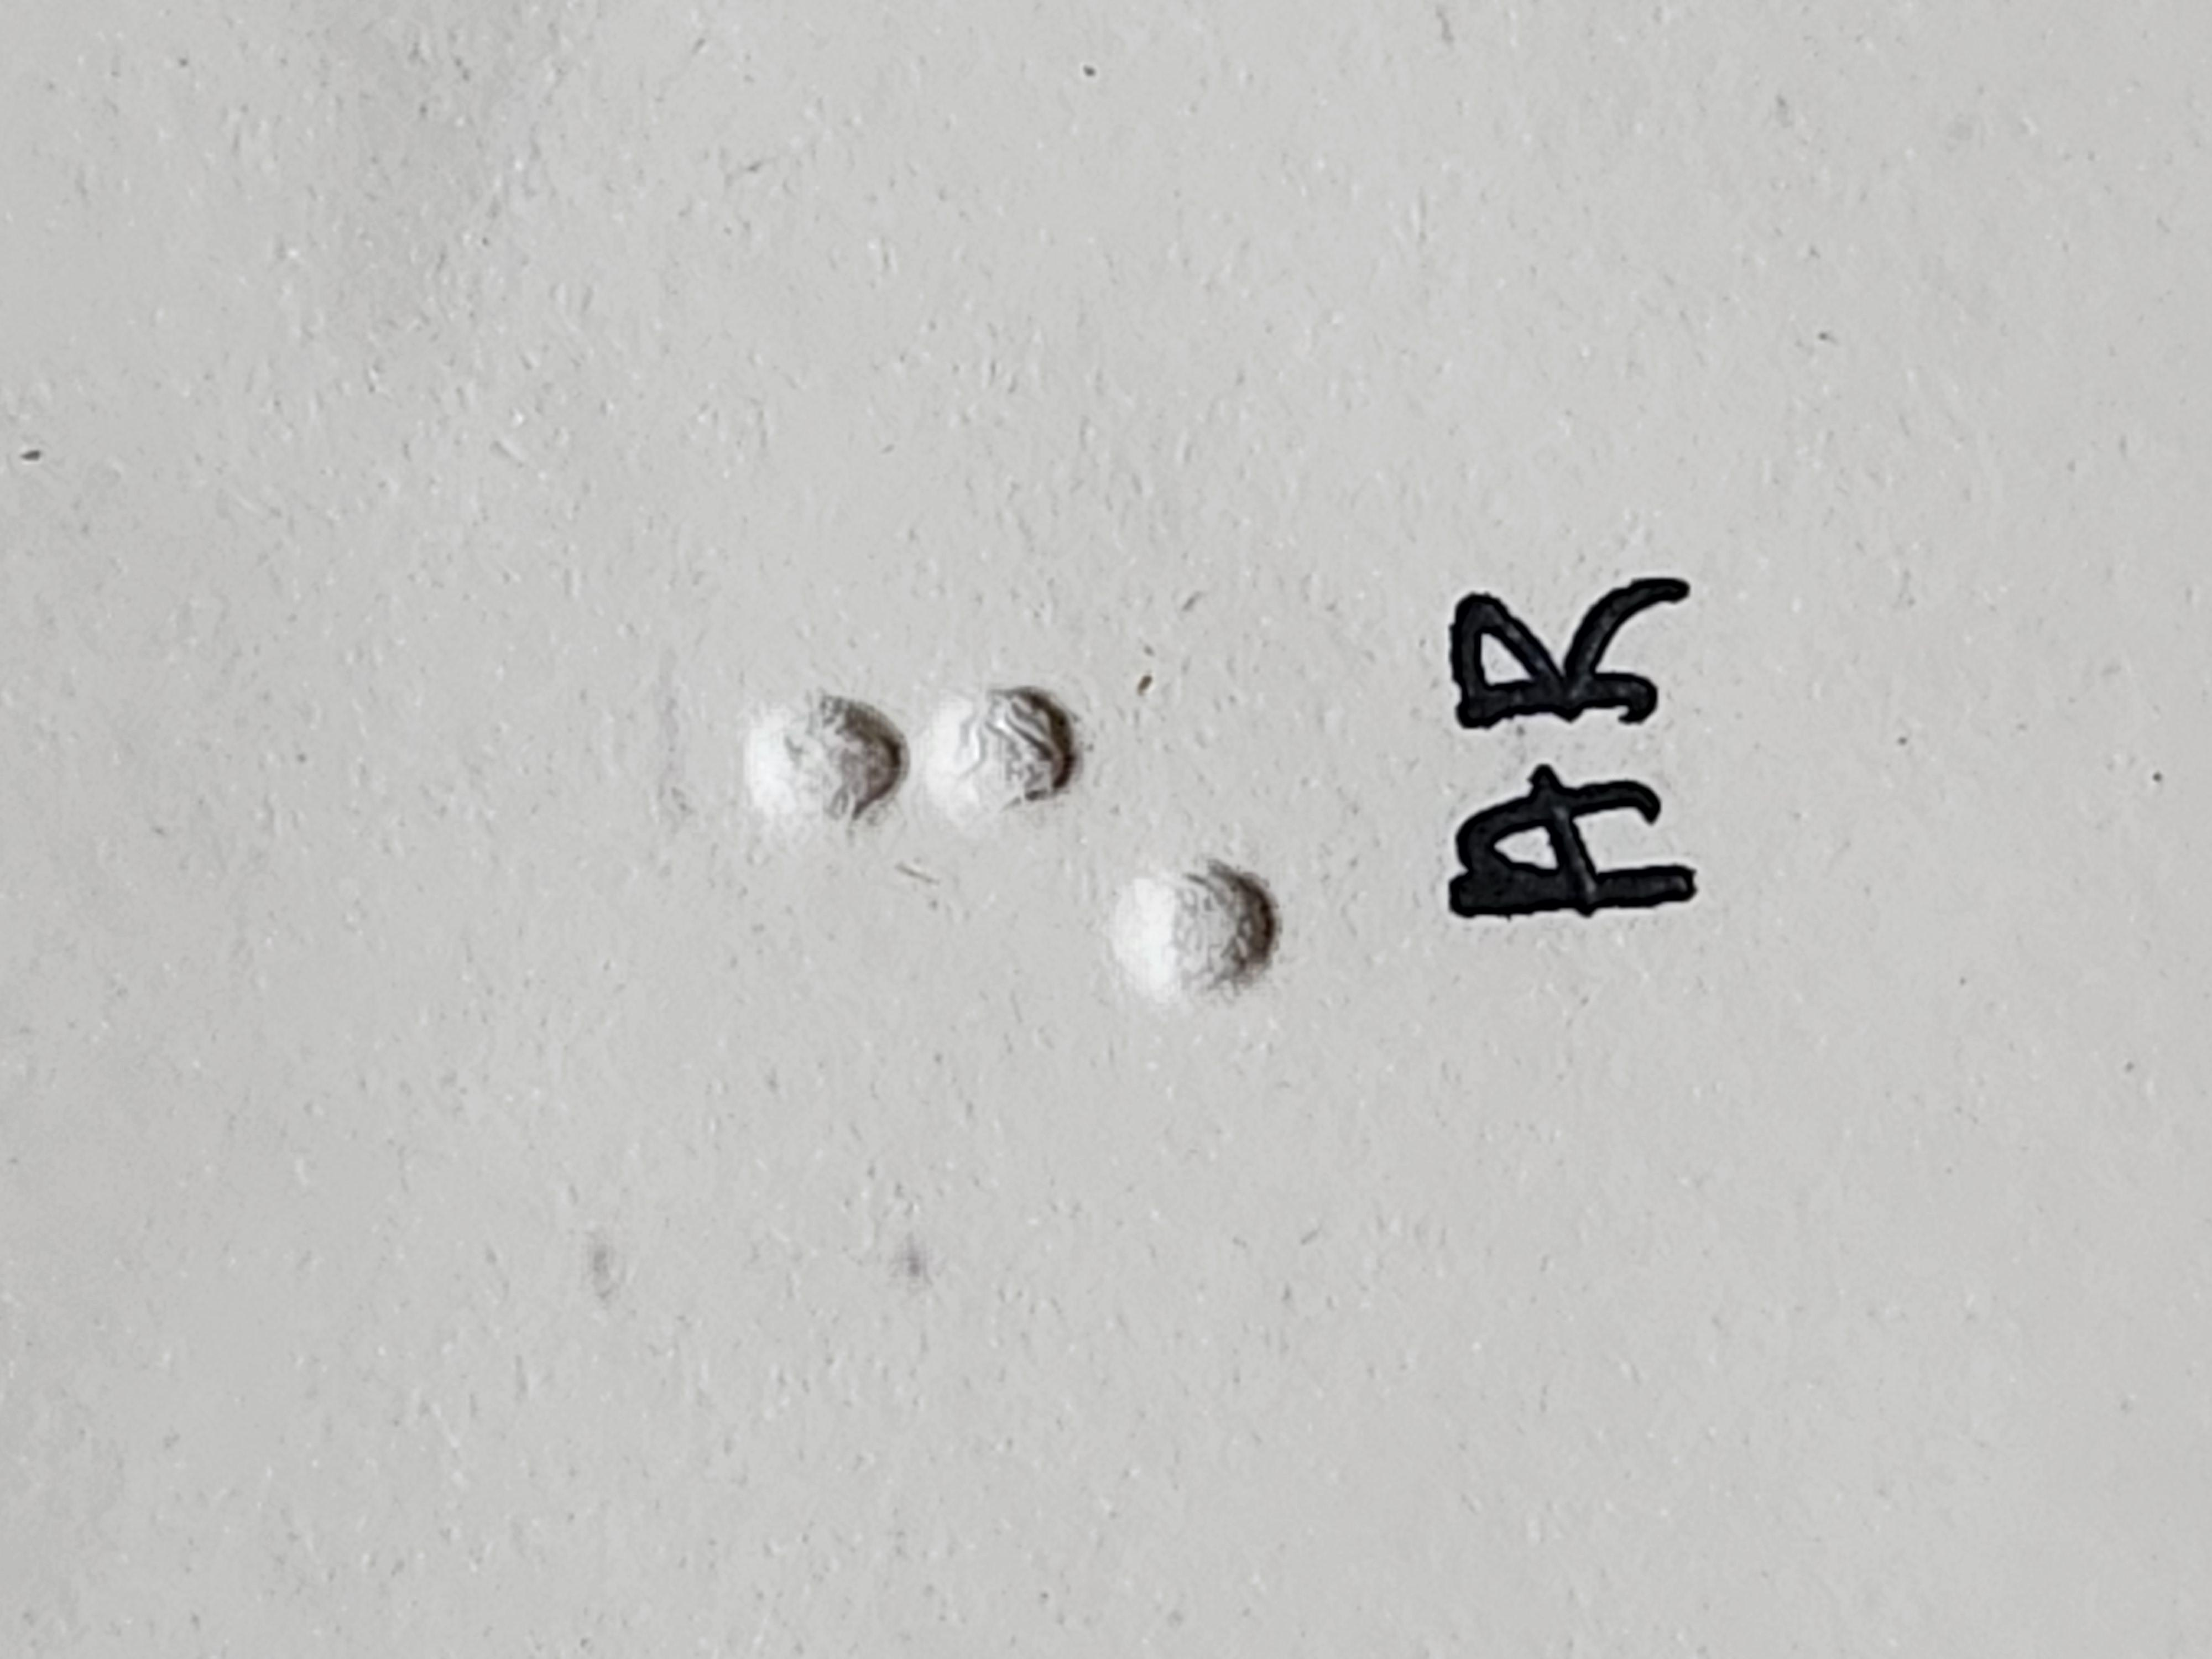one_cell_part_word_ar: (887, 561, 1298, 962)
